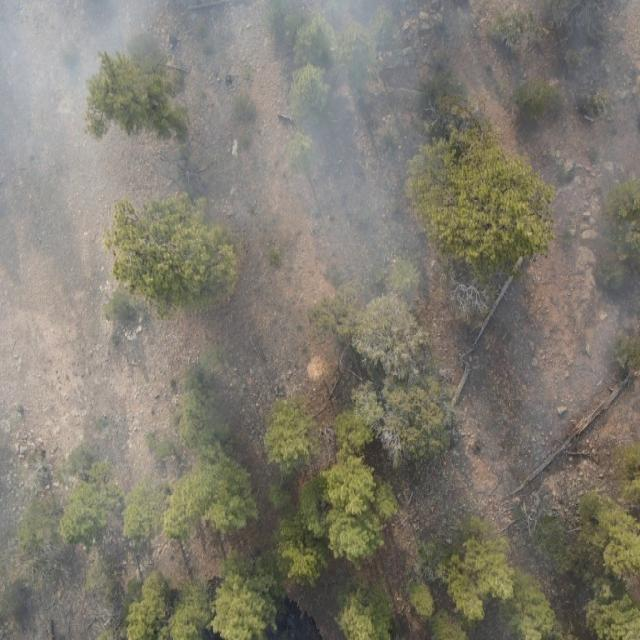smoke: (0, 0, 640, 441), (0, 441, 169, 640)
